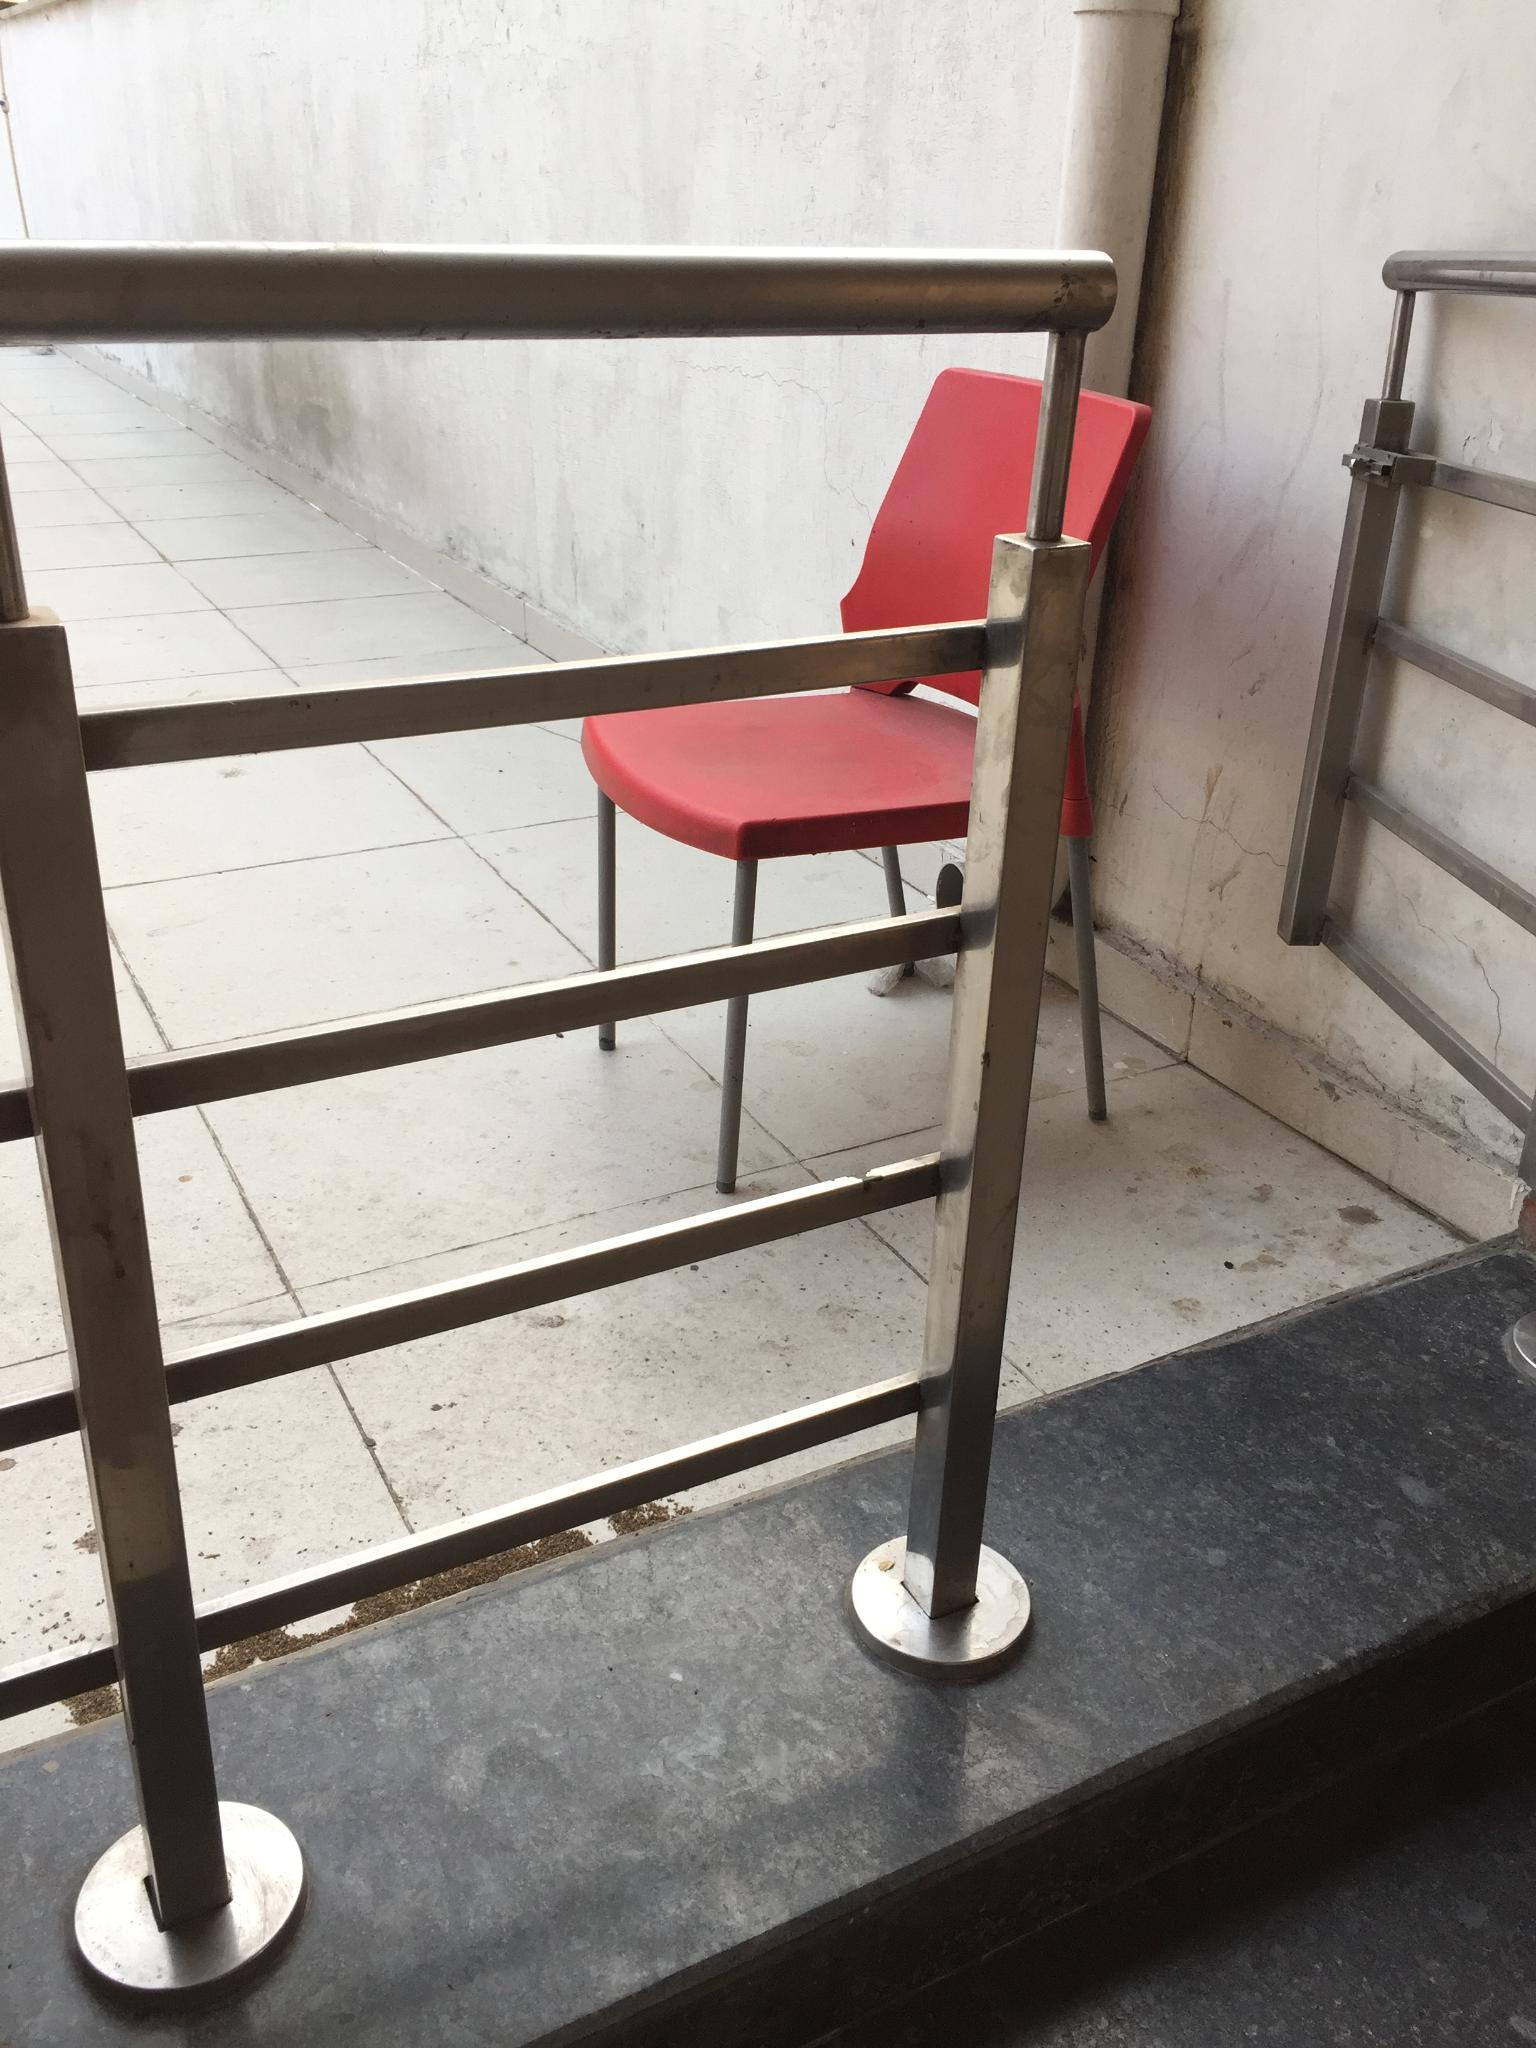chair: (579, 361, 1152, 1193)
